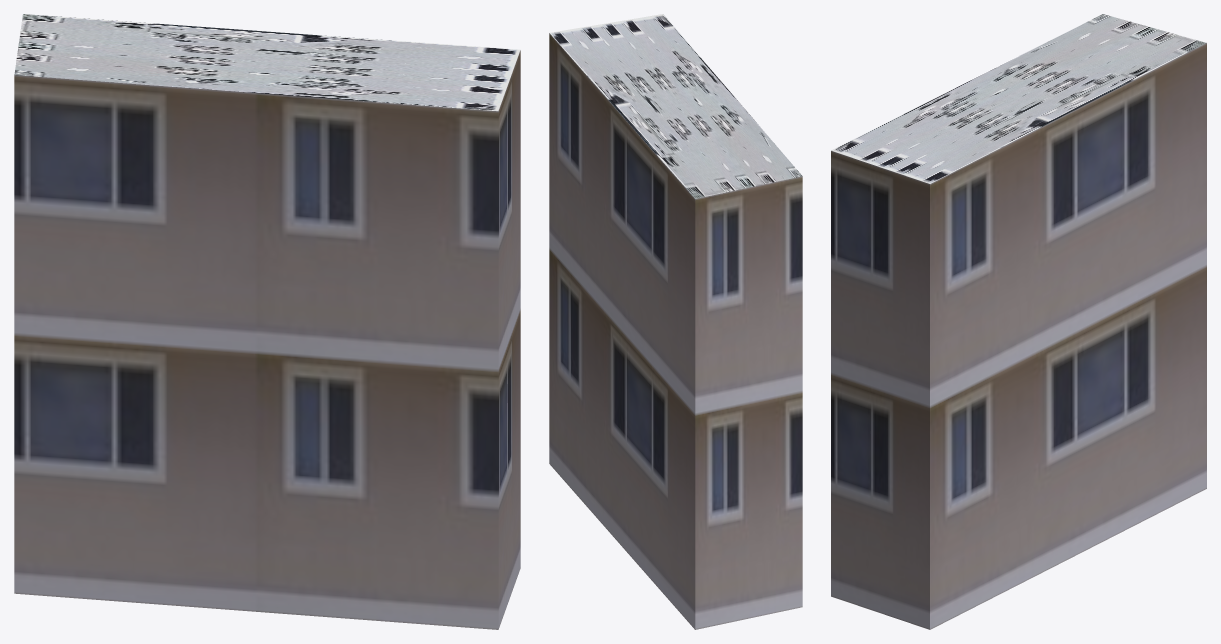
The model's file is ResTex__3706.fbx.
3 renders of one model, left to right at view 1: azimuth 30°, elevation 25°; view 2: azimuth 150°, elevation 25°; view 3: azimuth 270°, elevation 25°, orthographic. The views are drawn at different scales.
Parts seen in each view (by area): view 1: CityEngineMaterial_21_m, CityEngineMaterial_4_m; view 2: CityEngineMaterial_21_m, CityEngineMaterial_4_m; view 3: CityEngineMaterial_21_m, CityEngineMaterial_4_m.
Part boxes in pixels (x1,y1,x2,y2): CityEngineMaterial_21_m: (14, 50, 520, 629); CityEngineMaterial_4_m: (14, 14, 520, 111); CityEngineMaterial_21_m: (549, 33, 802, 629); CityEngineMaterial_4_m: (550, 14, 802, 198); CityEngineMaterial_21_m: (831, 43, 1206, 629); CityEngineMaterial_4_m: (831, 14, 1206, 183).
Size of the model in its own units: 4.91 by 6 by 4.58.
Materials: 2 (2 with a texture image).
